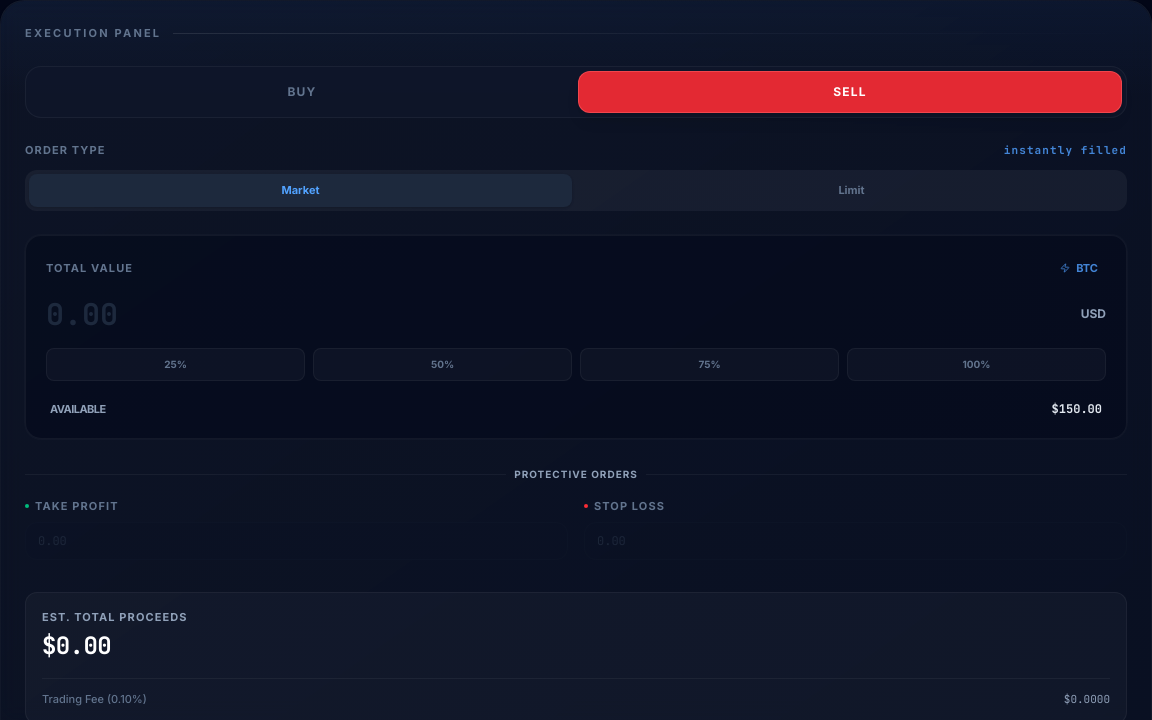
TradePanel quick presets › clamps SELL total-value input to the current position value
The width and height of the screenshot is (1152, 720).
Type "999999" into the number field named "Trade amount input".
click(576, 314); type("999999")  # box left=46, top=296, right=1106, bottom=332
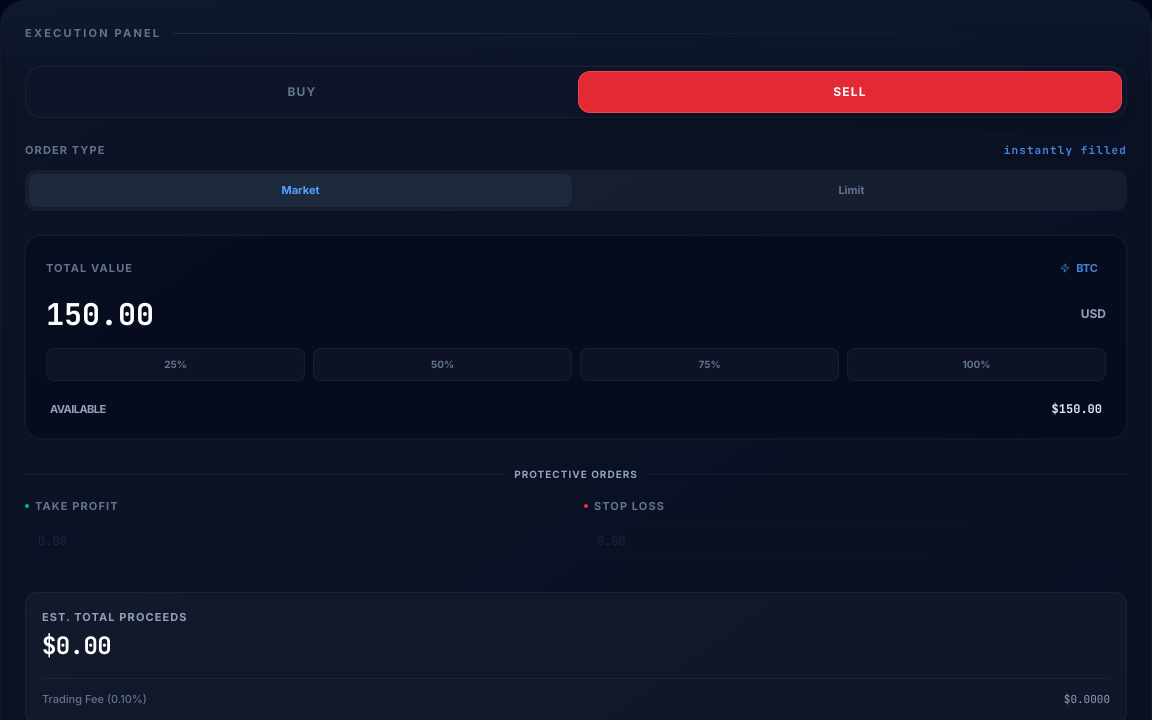
Expected: the number field named "Trade amount input" holds "150", left=46, top=296, right=1106, bottom=332
